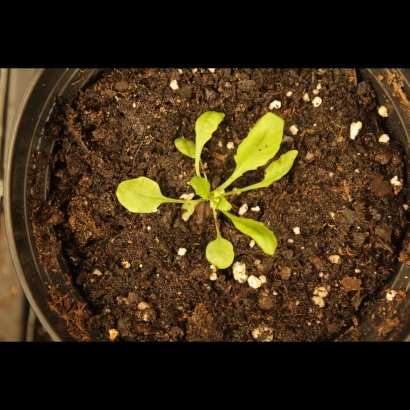leaf: (231, 112, 283, 174), (112, 173, 165, 219), (234, 213, 280, 260), (192, 106, 227, 158), (261, 147, 303, 190), (198, 231, 239, 274), (172, 133, 204, 165), (186, 175, 214, 205), (209, 191, 232, 214)
